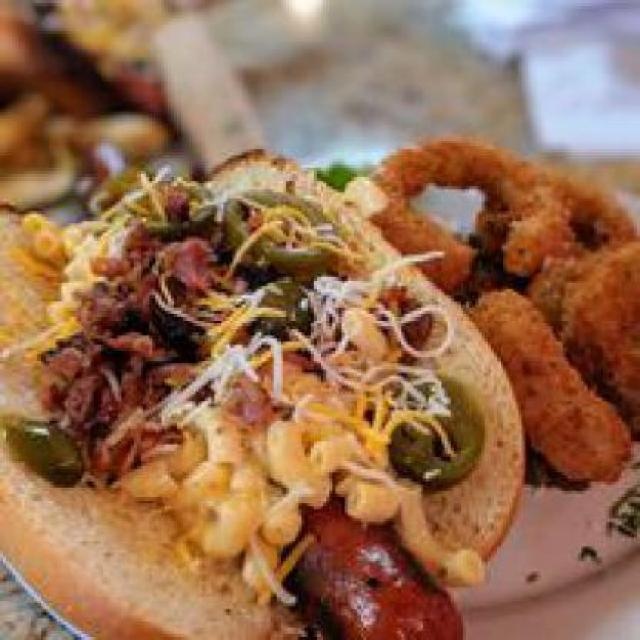hot dog: (268, 494, 469, 637)
macaroni and cheese: (21, 193, 442, 544)
onion rings: (360, 133, 637, 484)
